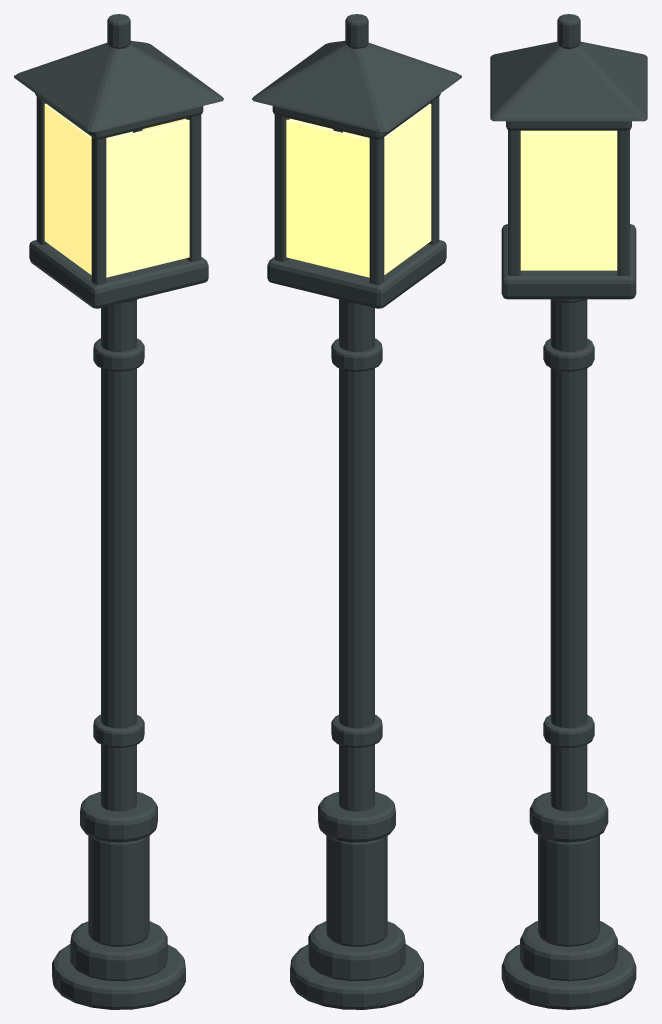
File: SM_CanalLamp.fbx
3 views of the same model, side by side, from view 1: azimuth 30°, elevation 25°; view 2: azimuth 150°, elevation 25°; view 3: azimuth 270°, elevation 25° (orthographic).
Parts seen in each view (by area): view 1: SM_CanalLamp; view 2: SM_CanalLamp; view 3: SM_CanalLamp.
Boxes of the visible parts, x1,y1,x2,y2 form: SM_CanalLamp: [14, 14, 223, 1009]; SM_CanalLamp: [252, 14, 461, 1009]; SM_CanalLamp: [490, 14, 647, 1009].
Size of the model in its own units: 0.5608 by 0.5608 by 3.8.
